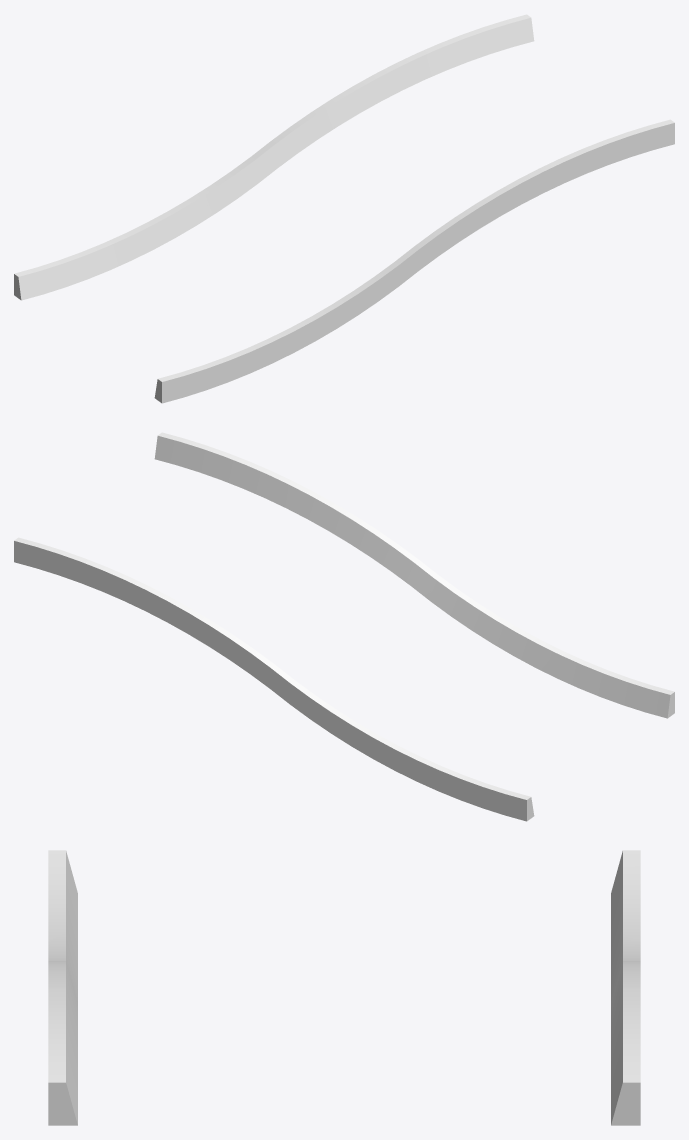
File: road-slant-curve-barrier.gltf
The picture shows the model from 3 angles, top to bottom: view 1: azimuth 30°, elevation 25°; view 2: azimuth 150°, elevation 25°; view 3: azimuth 270°, elevation 25°; orthographic projection. The views are drawn at different scales.
Visible parts, largest first — view 1: road-slant-curve-barrier; view 2: road-slant-curve-barrier; view 3: road-slant-curve-barrier.
Part boxes in pixels (x1,y1,x2,y2): road-slant-curve-barrier: (14, 14, 674, 403); road-slant-curve-barrier: (14, 432, 674, 821); road-slant-curve-barrier: (48, 850, 640, 1125).
Size of the model in its own units: 2 by 0.58 by 1.
Materials: 1 (1 with a texture image).
